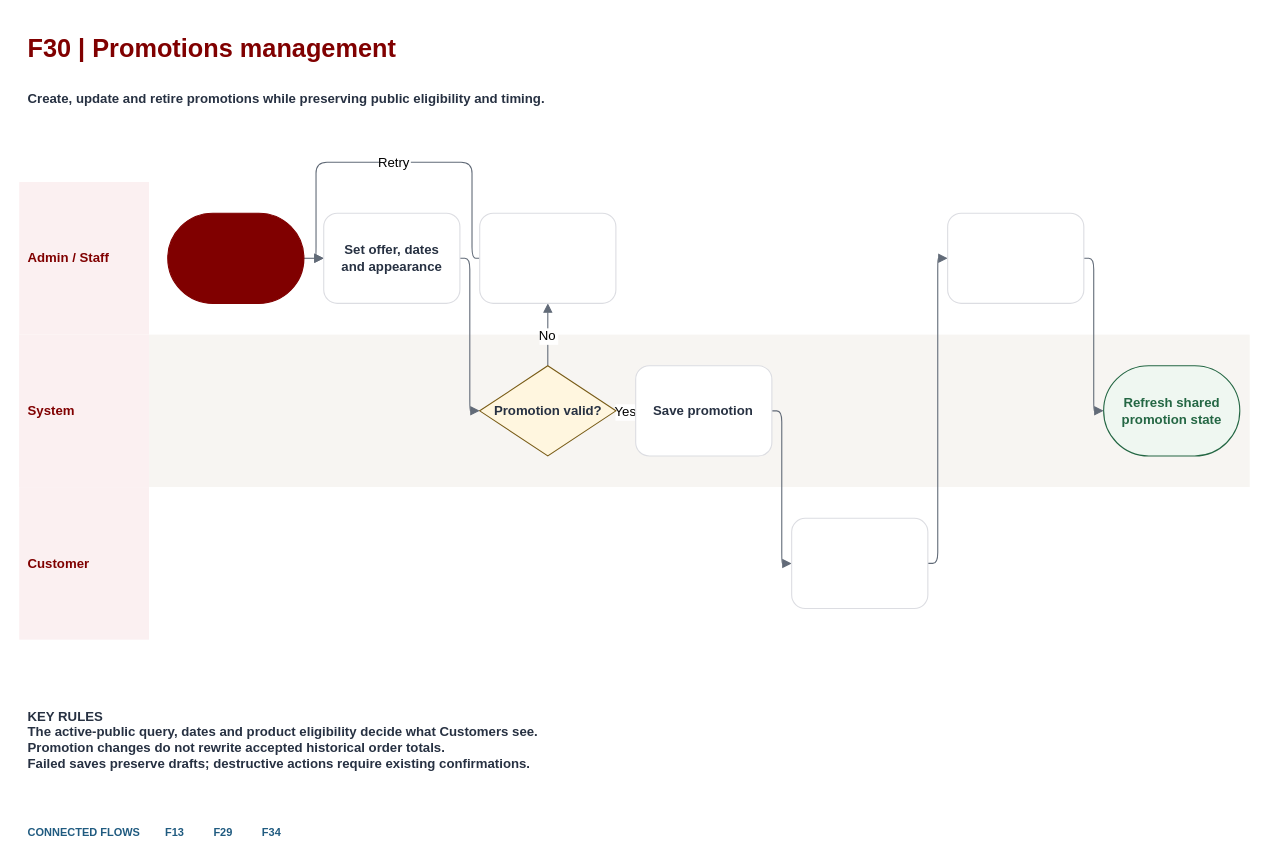
This 1268x860 diagram has some shape labels left out. The shapes that lost their labels are listed below. From the top down, each one's centre as x and y in pixels, then its label:
At (x=235, y=257): "Select promotion products".
At (x=547, y=257): "Correct offer; keep draft".
At (x=1015, y=257): "Edit, archive or delete as allowed".
At (x=859, y=563): "See currently eligible offers".
